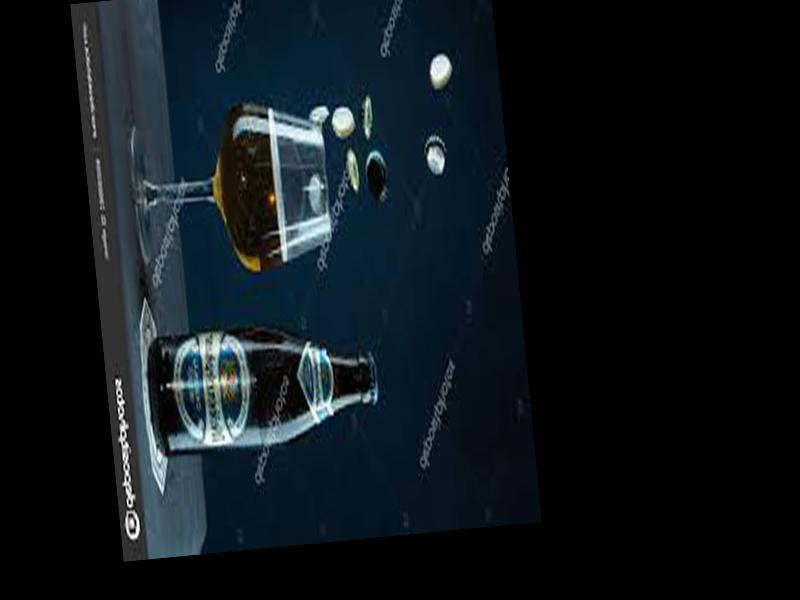Beer: (146, 319, 379, 453)
